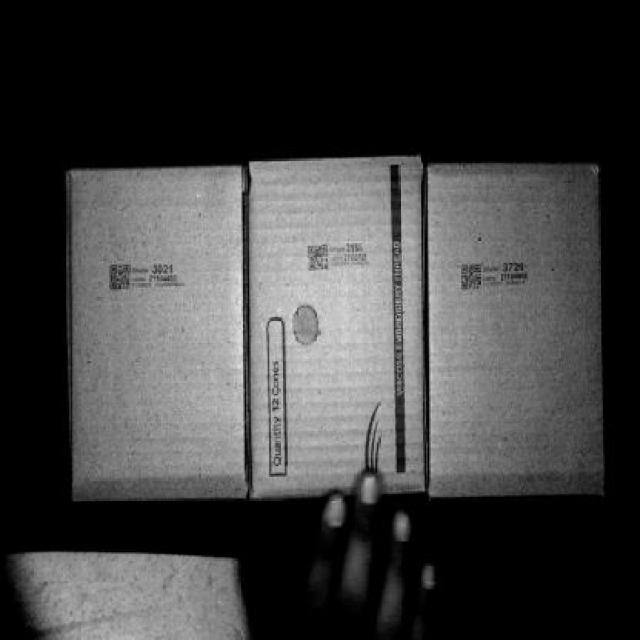cardboxes: (68, 174, 250, 498), (430, 167, 604, 496), (252, 166, 425, 494)
